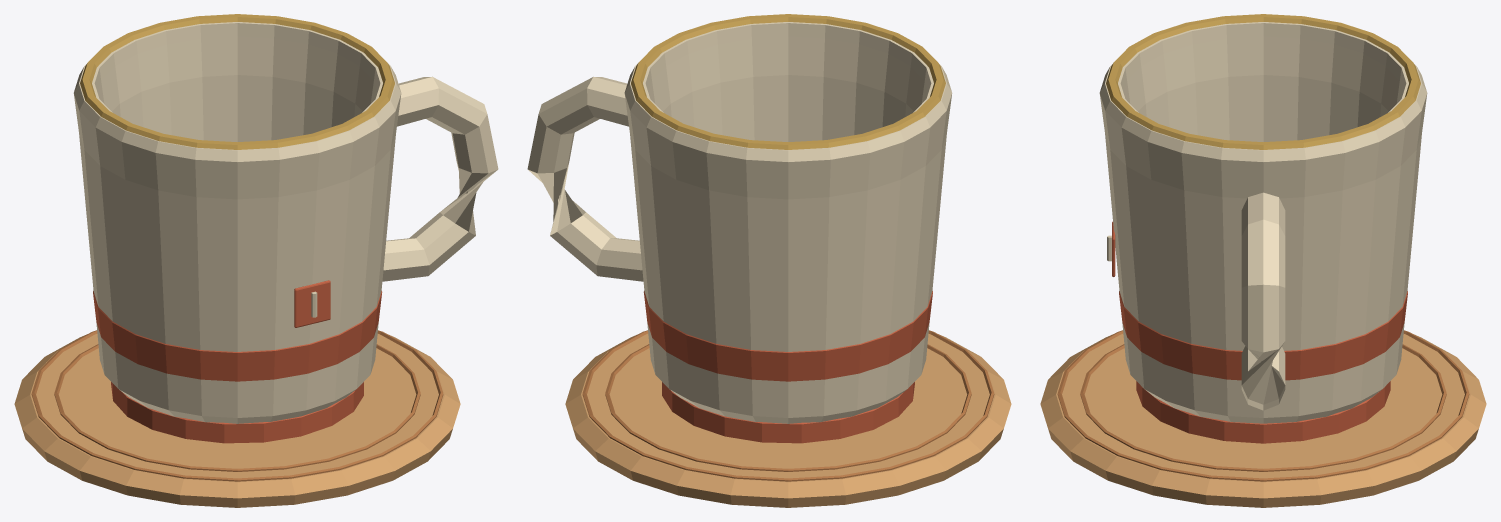
File: 018_mug_and_coaster_v01.glb
3 views of the same model, side by side, from view 1: azimuth 30°, elevation 25°; view 2: azimuth 150°, elevation 25°; view 3: azimuth 270°, elevation 25° (orthographic).
Visible parts, largest first — view 1: Mug hollow stoneware wall, Cork coaster bevel, Mug substantial open ceramic handle, Mug dipped lower terracotta glaze, Mug rim ochre outline, Mug unglazed foot, Turned coaster concentric groove.001, Turned coaster concentric groove, Mug makers square; view 2: Mug hollow stoneware wall, Cork coaster bevel, Mug substantial open ceramic handle, Mug dipped lower terracotta glaze, Mug rim ochre outline, Mug unglazed foot, Turned coaster concentric groove.001, Turned coaster concentric groove; view 3: Mug hollow stoneware wall, Cork coaster bevel, Mug substantial open ceramic handle, Mug dipped lower terracotta glaze, Mug rim ochre outline, Mug unglazed foot, Turned coaster concentric groove.001, Turned coaster concentric groove.
Boxes of the visible parts, bbox=[...] form: Mug hollow stoneware wall: bbox=[73, 22, 401, 423]; Cork coaster bevel: bbox=[14, 334, 460, 507]; Mug substantial open ceramic handle: bbox=[382, 76, 498, 281]; Mug dipped lower terracotta glaze: bbox=[93, 291, 382, 381]; Mug rim ochre outline: bbox=[80, 14, 394, 149]; Mug unglazed foot: bbox=[111, 382, 363, 443]; Turned coaster concentric groove.001: bbox=[31, 330, 443, 481]; Turned coaster concentric groove: bbox=[54, 344, 420, 471]; Mug makers square: bbox=[294, 280, 330, 327]; Mug hollow stoneware wall: bbox=[624, 22, 952, 423]; Cork coaster bevel: bbox=[565, 334, 1011, 507]; Mug substantial open ceramic handle: bbox=[527, 76, 643, 281]; Mug dipped lower terracotta glaze: bbox=[643, 291, 932, 381]; Mug rim ochre outline: bbox=[631, 14, 945, 149]; Mug unglazed foot: bbox=[662, 382, 914, 443]; Turned coaster concentric groove.001: bbox=[582, 330, 994, 481]; Turned coaster concentric groove: bbox=[605, 344, 971, 471]; Mug hollow stoneware wall: bbox=[1099, 22, 1427, 423]; Cork coaster bevel: bbox=[1040, 334, 1486, 507]; Mug substantial open ceramic handle: bbox=[1241, 192, 1285, 410]; Mug dipped lower terracotta glaze: bbox=[1119, 291, 1407, 380]; Mug rim ochre outline: bbox=[1106, 14, 1420, 149]; Mug unglazed foot: bbox=[1136, 381, 1390, 443]; Turned coaster concentric groove.001: bbox=[1057, 330, 1469, 481]; Turned coaster concentric groove: bbox=[1080, 344, 1446, 471].
Size of the model in its own units: 0.2994 by 0.2175 by 0.256.
